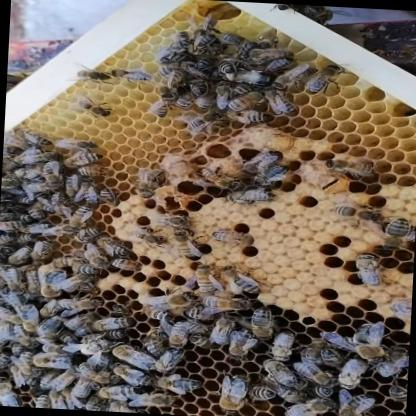bee: (0, 215, 377, 416), (6, 25, 392, 162), (0, 129, 152, 248), (207, 145, 416, 224), (317, 251, 414, 346), (299, 182, 416, 253)
